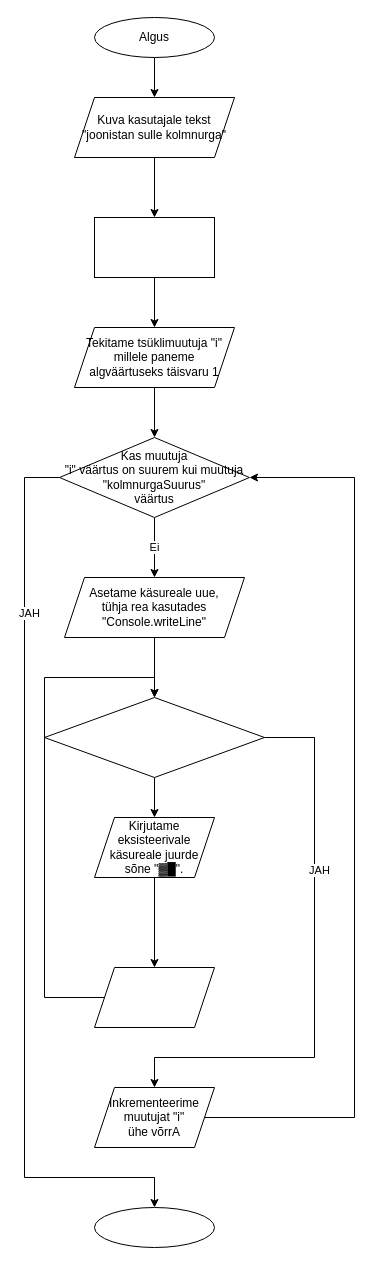
The diagram is 380 pixels wide and 1265 high, and some of its shapes have lost their labels. The centre of each missing label's shape, as x and y in pixels:
Inkrementeerime muutujat "j" ühe võrra: (x=154, y=997)
Kas muutuja "j" väärtus on suurem kui muutuja "i" väärtus?: (x=154, y=737)
Lõpp: (x=154, y=1227)
ootame kuni kasutaja sisestab täisarvu muutujasse kolmnurgaSuurus: (x=154, y=247)
